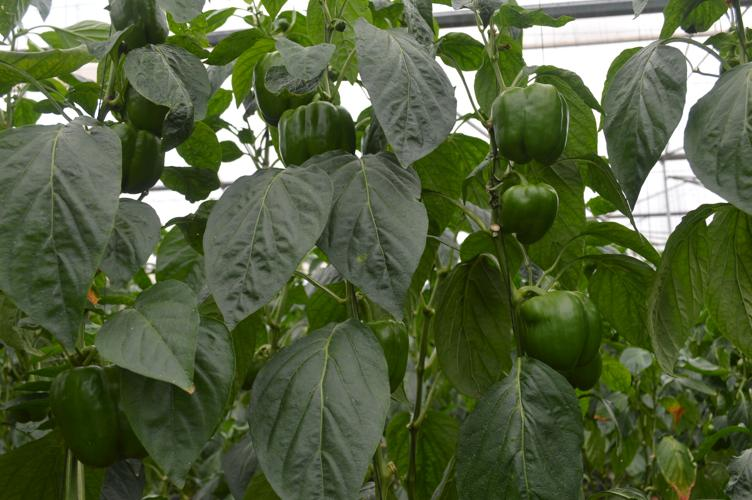BellPepper: (51, 366, 163, 468), (514, 281, 607, 375), (484, 79, 575, 170), (104, 48, 184, 135), (248, 52, 343, 123), (271, 101, 363, 171), (350, 308, 421, 396), (97, 117, 170, 201), (491, 176, 564, 246), (102, 1, 176, 48)
